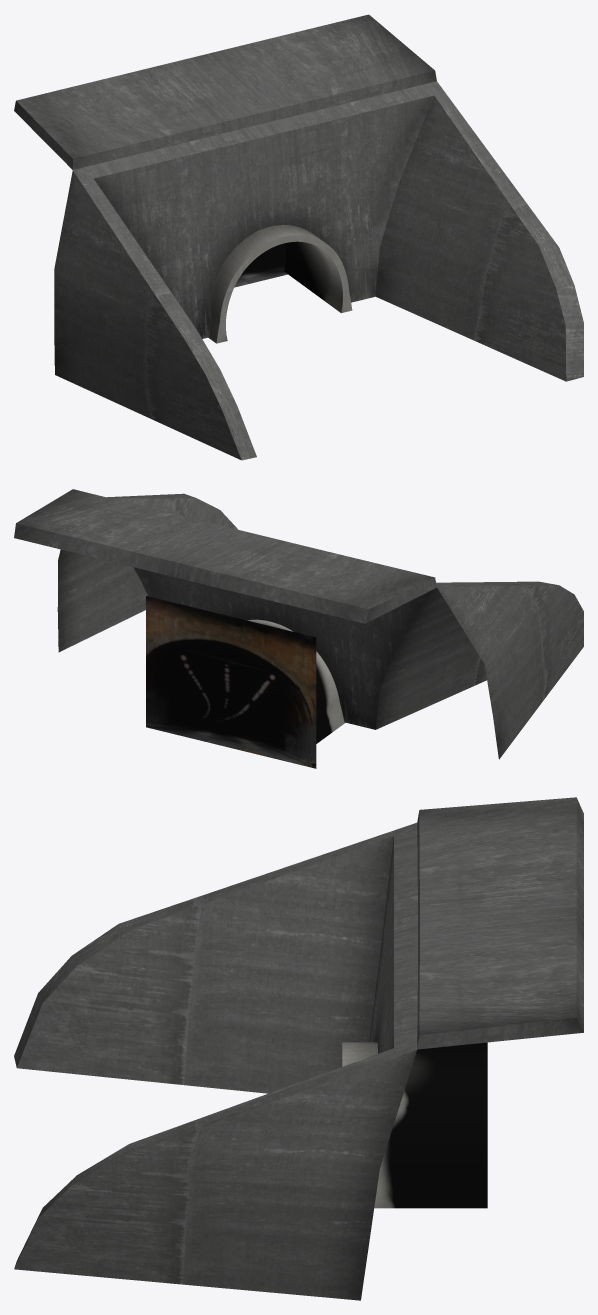
File: Tunel_single.fbx
The picture shows the model from 3 angles, top to bottom: view 1: azimuth 30°, elevation 25°; view 2: azimuth 150°, elevation 25°; view 3: azimuth 270°, elevation 25°; orthographic projection. The views are drawn at different scales.
Parts seen in each view (by area): view 1: Tunel_single; view 2: Tunel_single; view 3: Tunel_single.
Boxes of the visible parts, x1,y1,x2,y2 form: Tunel_single: [14, 14, 583, 460]; Tunel_single: [14, 489, 583, 768]; Tunel_single: [14, 797, 583, 1300].
Bounding box in the file's own units: 1405 × 629 × 1233.
